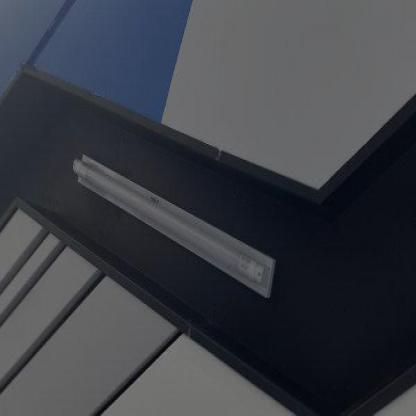light_off: (65, 135, 284, 311)
